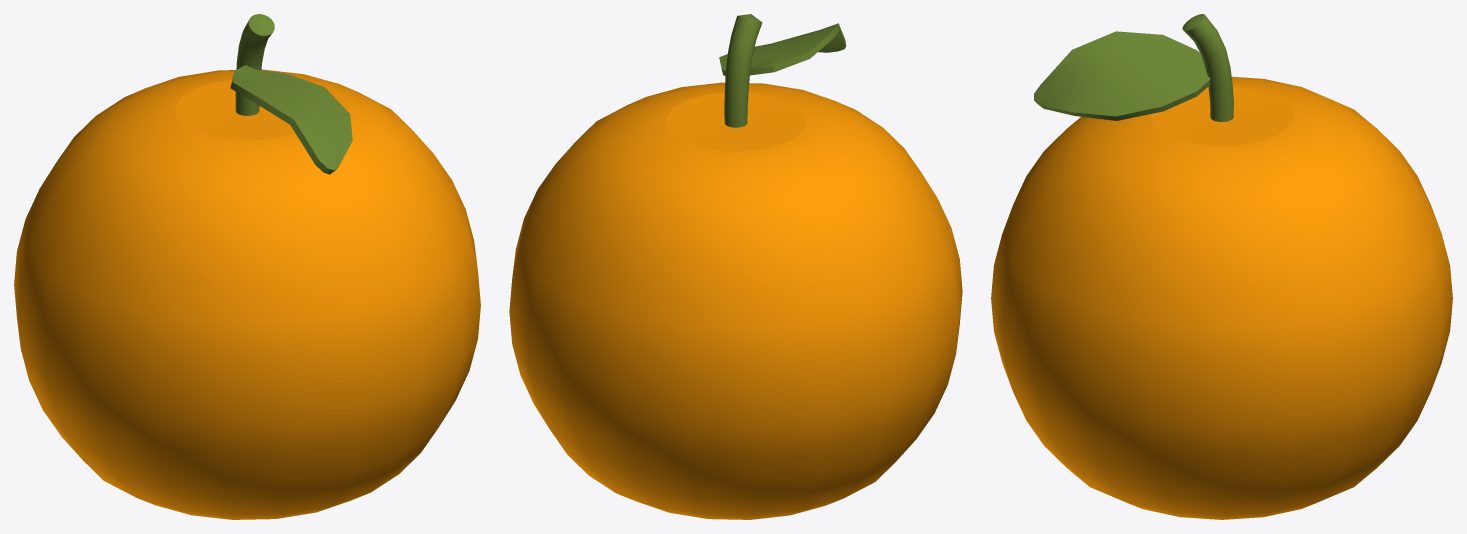
File: orange_whole.fbx
The picture shows the model from 3 angles, left to right: view 1: azimuth 30°, elevation 25°; view 2: azimuth 150°, elevation 25°; view 3: azimuth 270°, elevation 25°; orthographic projection. The views are drawn at different scales.
Parts seen in each view (by area): view 1: orange_whole; view 2: orange_whole; view 3: orange_whole.
Part boxes in pixels (left/top/right/bottom): orange_whole: left=14, top=14, right=480, bottom=519; orange_whole: left=509, top=14, right=962, bottom=519; orange_whole: left=991, top=14, right=1452, bottom=519.
Bounding box in the file's own units: 4 × 4.52 × 4.
Materials: 1 (1 with a texture image).
